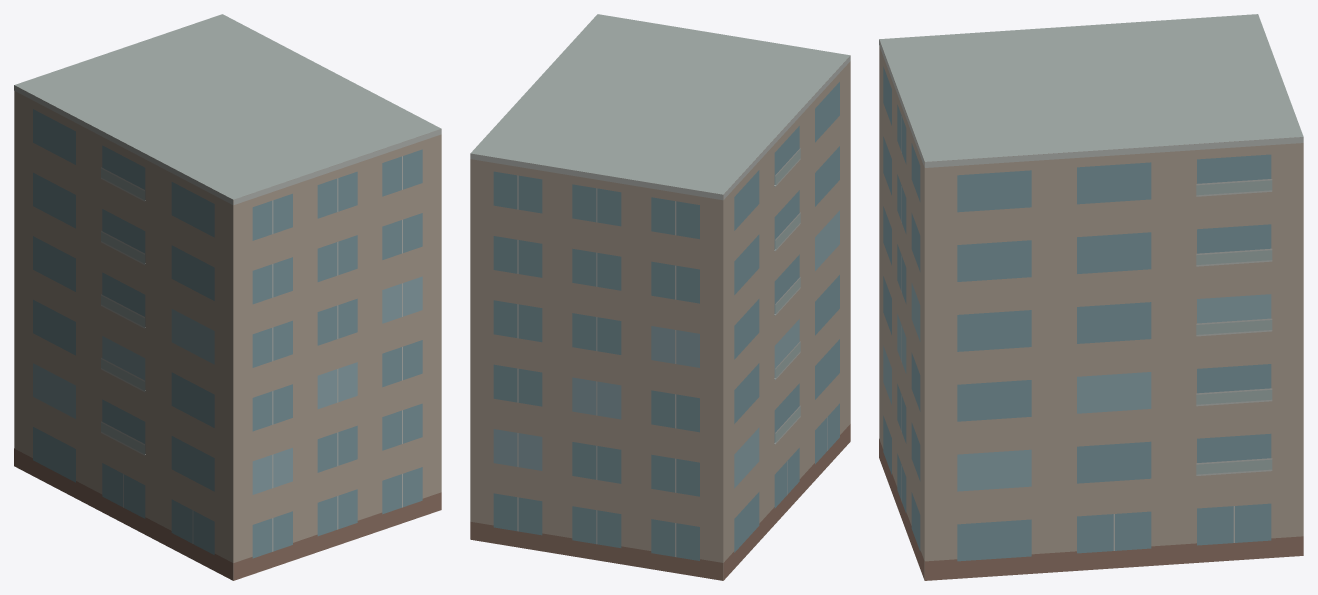
File: survey-upis-32523723.glb
The picture shows the model from 3 angles, left to right: view 1: azimuth 30°, elevation 25°; view 2: azimuth 150°, elevation 25°; view 3: azimuth 270°, elevation 25°; orthographic projection. The views are drawn at different scales.
Parts seen in each view (by area): view 1: survey-upis-32523723.tmp; view 2: survey-upis-32523723.tmp; view 3: survey-upis-32523723.tmp.
Boxes of the visible parts, box(x1,y1,x2,y2) form: survey-upis-32523723.tmp: box(14, 14, 441, 580); survey-upis-32523723.tmp: box(470, 14, 850, 580); survey-upis-32523723.tmp: box(879, 14, 1303, 580).
Size of the model in its own units: 12.66 by 16.7 by 15.34.
